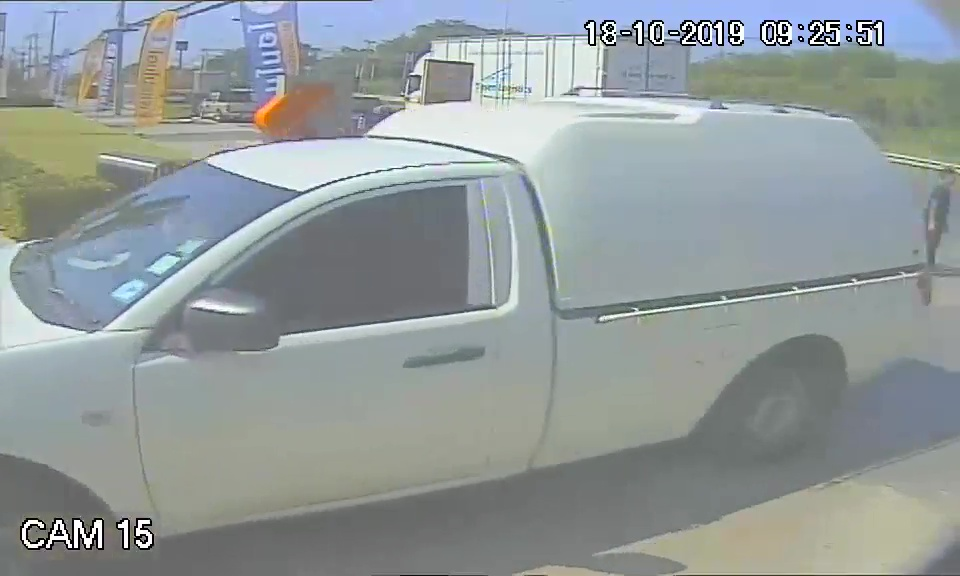pickup: (1, 104, 934, 505)
